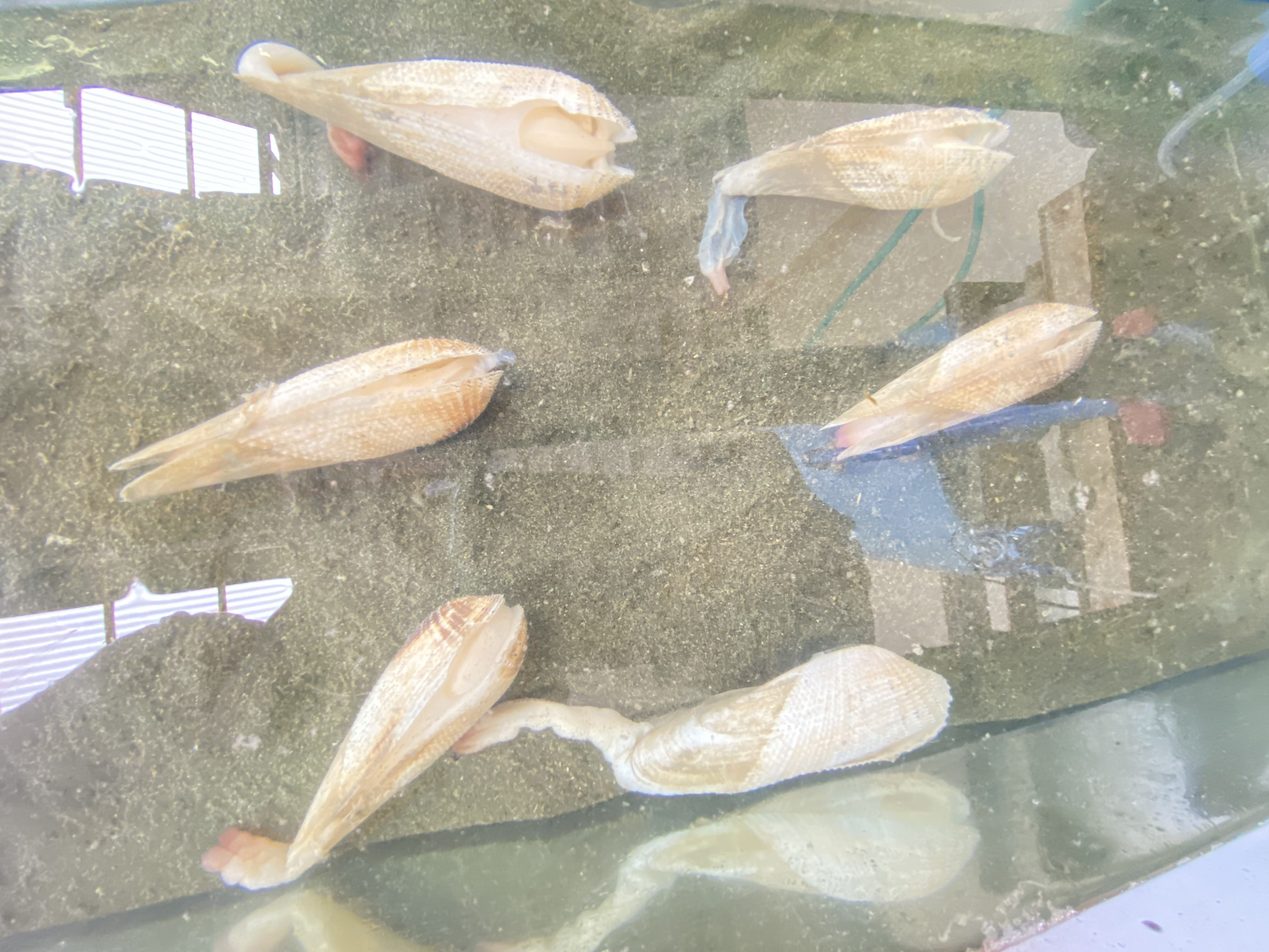At risk: (202, 595, 951, 889), (237, 43, 636, 211), (110, 339, 512, 500), (698, 108, 1013, 295), (824, 303, 1103, 460)
